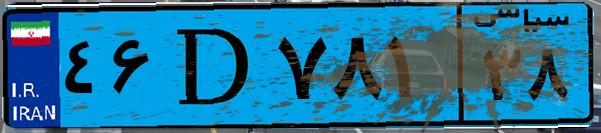1: (385, 28, 445, 110)
3: (475, 38, 525, 113)
4: (57, 26, 110, 100)
6: (110, 28, 158, 98)
7: (270, 28, 330, 110)
8: (330, 28, 385, 110), (525, 38, 570, 115)
D: (158, 12, 270, 120)
